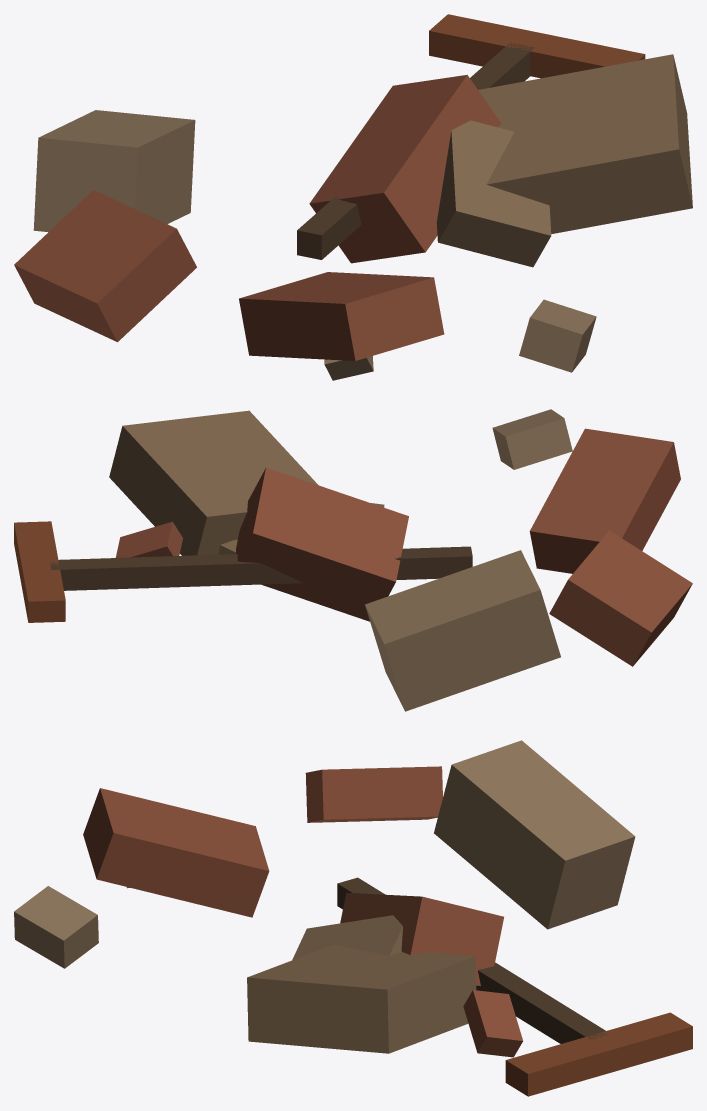
Rendered from TownJunkA.glb.
3 renders of one model, top to bottom at view 1: azimuth 30°, elevation 25°; view 2: azimuth 150°, elevation 25°; view 3: azimuth 270°, elevation 25°, orthographic. The views are drawn at different scales.
Visible parts, largest first — view 1: TownJunkA.001; view 2: TownJunkA.001; view 3: TownJunkA.001.
Boxes of the visible parts, x1,y1,x2,y2 form: TownJunkA.001: [14, 14, 692, 380]; TownJunkA.001: [14, 409, 692, 711]; TownJunkA.001: [14, 740, 692, 1096].
Bounding box in the file's own units: 1.45 × 0.3135 × 1.36.
